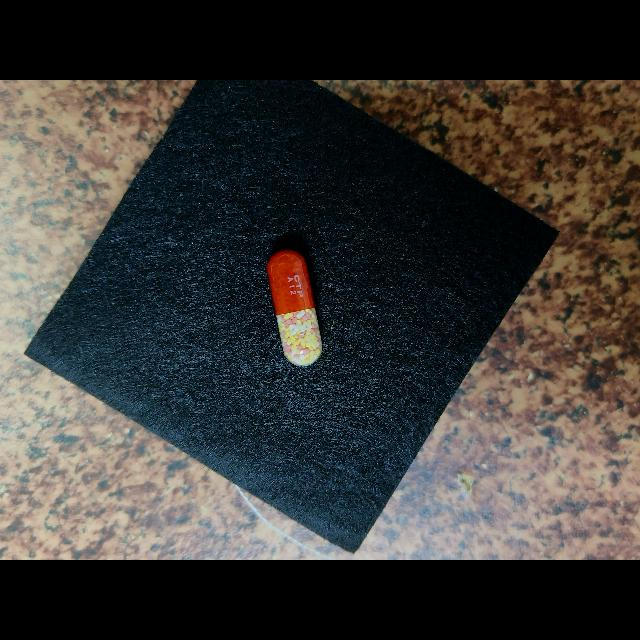Intact Capsule: (266, 250, 322, 366)
